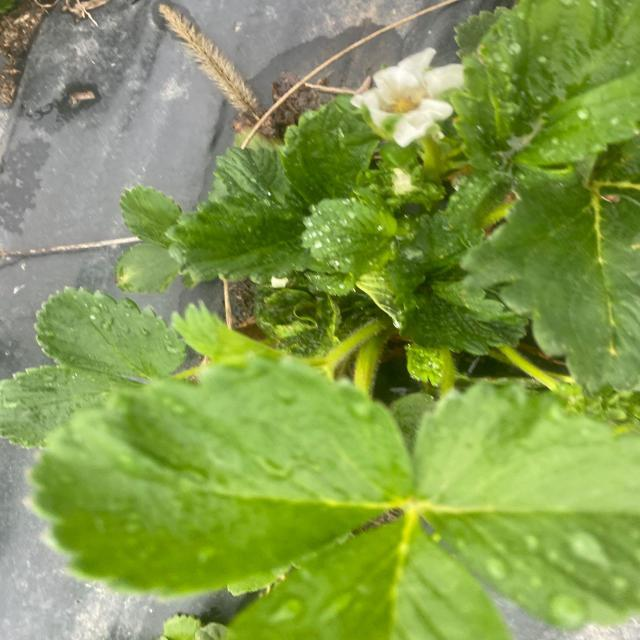flower: (357, 48, 465, 140)
